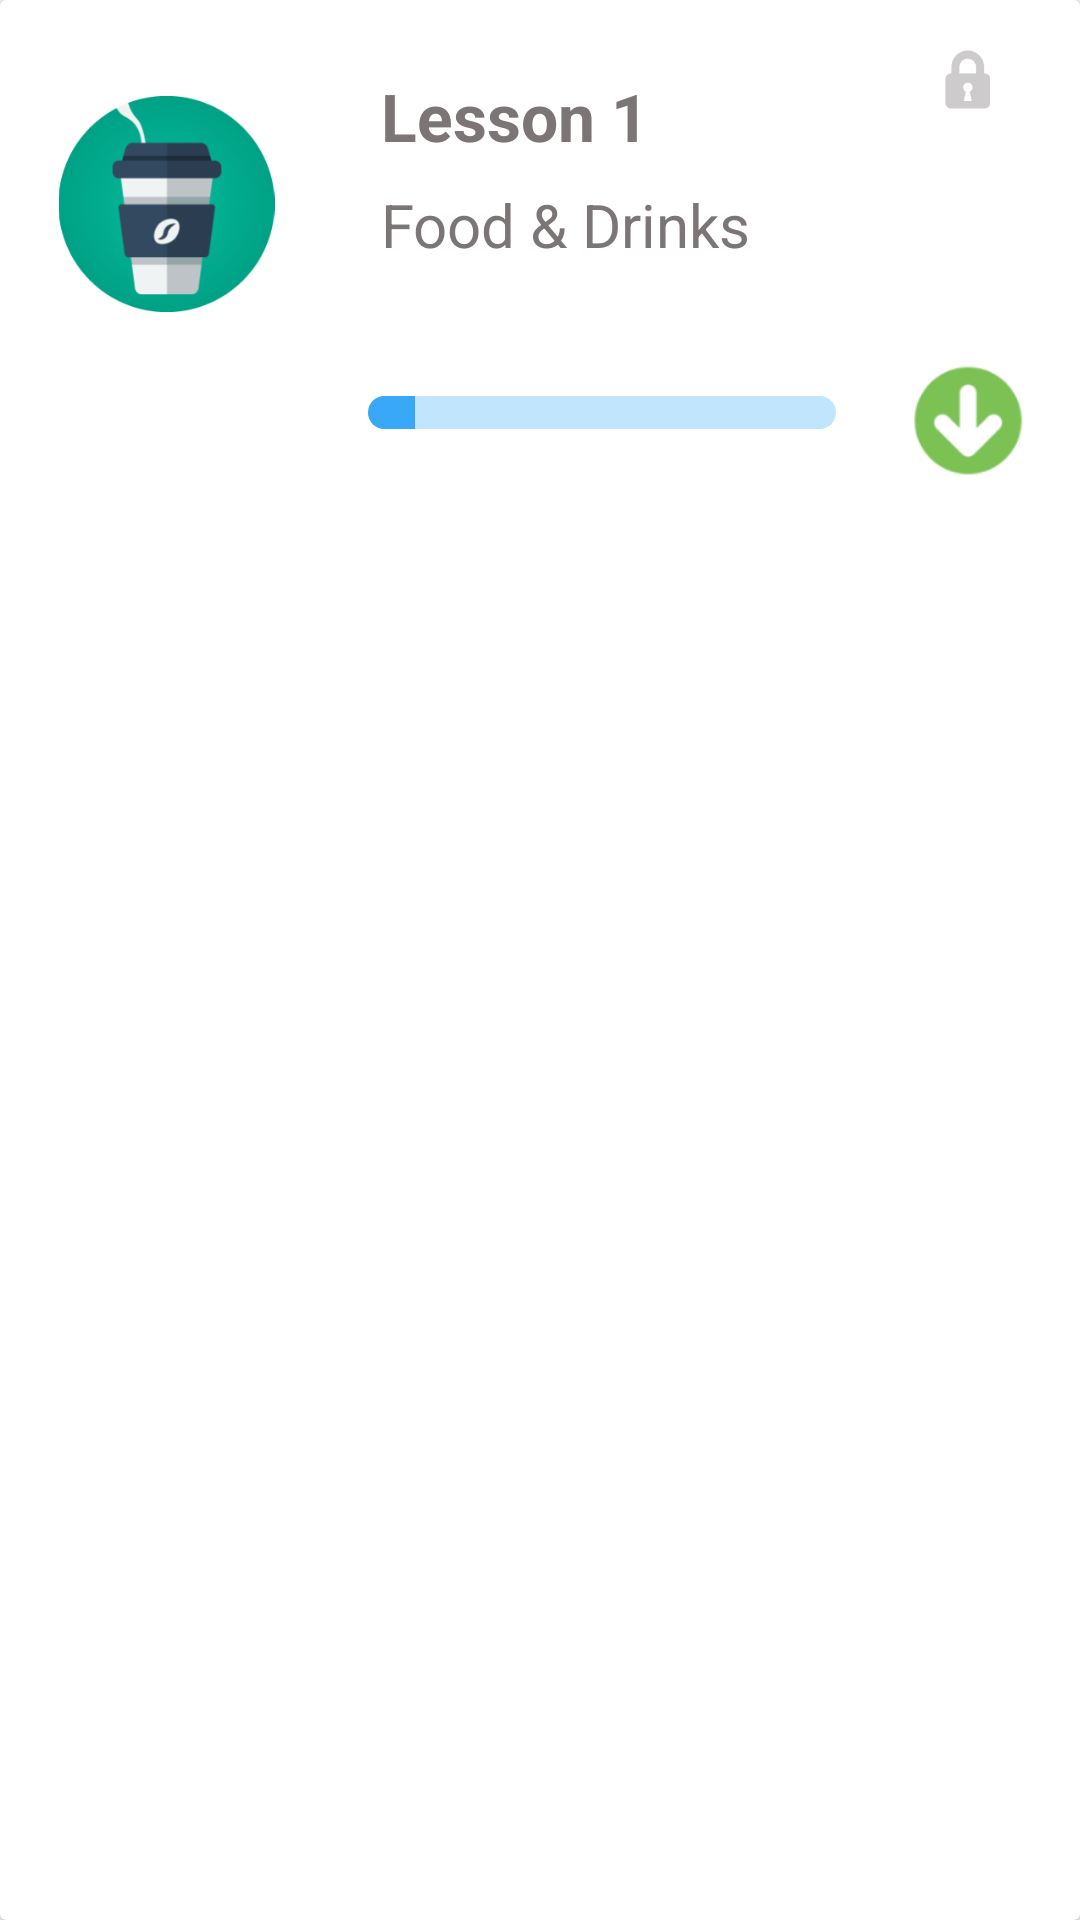

Icon click points for this 1080px x 1920px phone screenshot, format point (x, y):
coffee: point (167, 204)
download: point (968, 420)
lock: point (967, 80)
